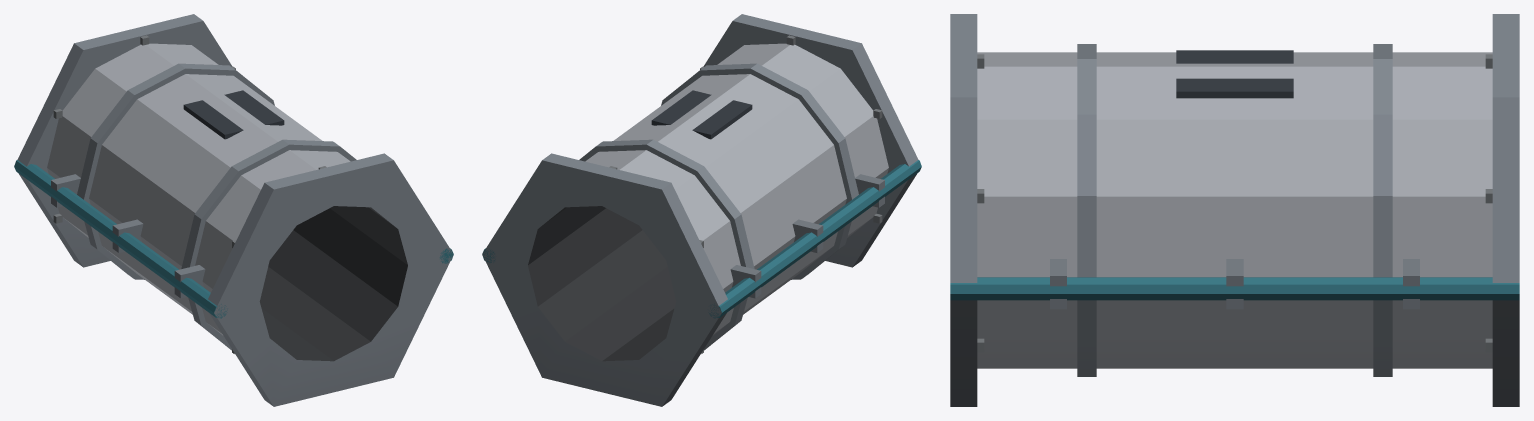
The model's file is pipe.coolant.white.glb.
The picture shows the model from 3 angles, left to right: view 1: azimuth 30°, elevation 25°; view 2: azimuth 150°, elevation 25°; view 3: azimuth 270°, elevation 25°; orthographic projection. The views are drawn at different scales.
Visible parts, largest first — view 1: pipe_coolant_white; view 2: pipe_coolant_white; view 3: pipe_coolant_white.
Boxes of the visible parts, left/top/right/bottom form: pipe_coolant_white: left=14, top=14, right=453, bottom=406; pipe_coolant_white: left=482, top=14, right=921, bottom=406; pipe_coolant_white: left=950, top=14, right=1519, bottom=406.
Size of what is drawn, in the model's own units: 1.62 by 1.4 by 2.33.
